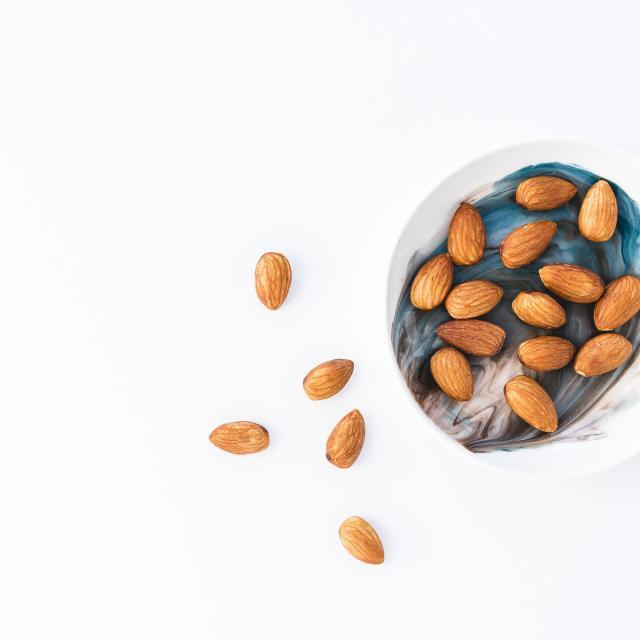almond: (505, 376, 559, 434), (499, 220, 558, 267), (540, 264, 607, 305), (436, 320, 506, 357), (594, 274, 640, 330), (576, 332, 632, 378), (446, 203, 487, 265), (411, 253, 456, 309), (324, 408, 365, 469), (579, 181, 617, 242), (448, 279, 504, 320), (515, 176, 580, 211), (253, 252, 292, 310), (338, 516, 386, 563), (432, 347, 474, 400), (518, 334, 578, 371), (209, 420, 269, 456), (303, 357, 354, 399), (511, 291, 567, 329)
